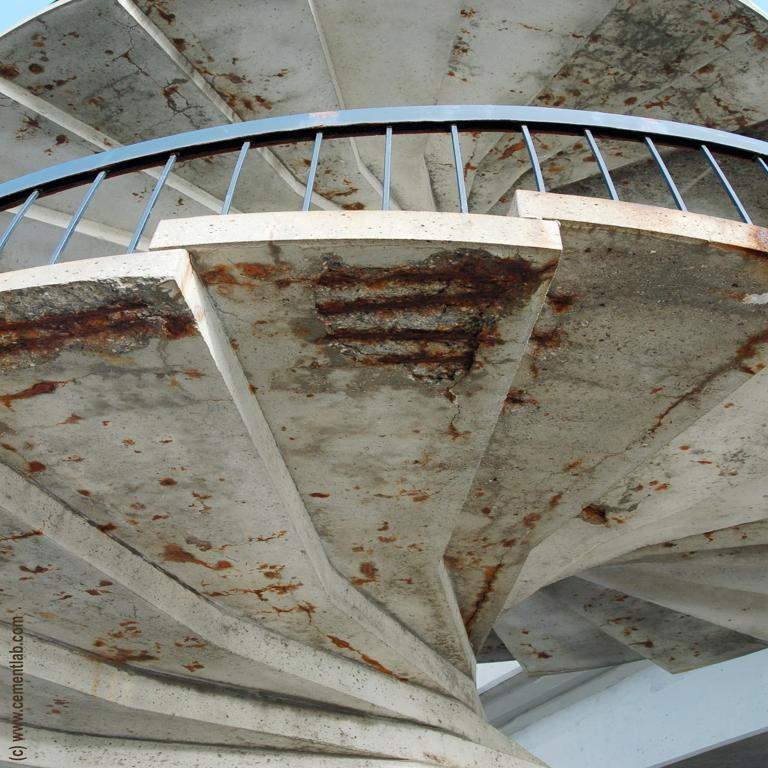spalling: (314, 249, 544, 384), (1, 279, 196, 376)
